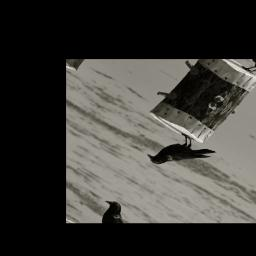Crow: (142, 124, 220, 185)
